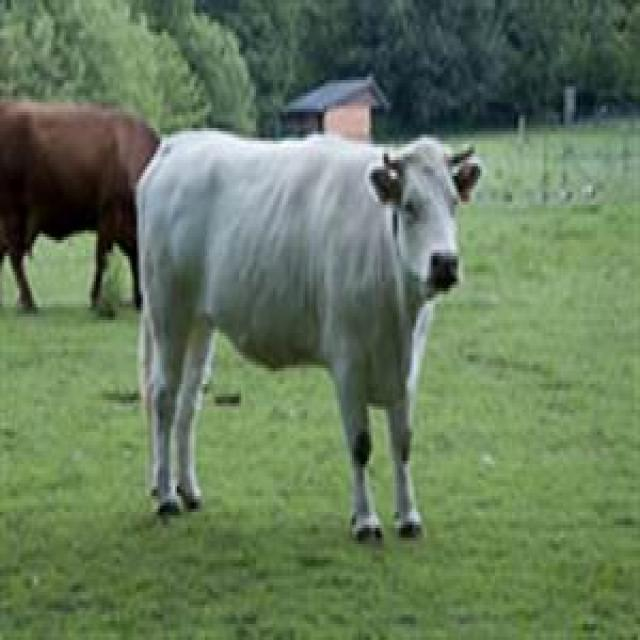animal: (134, 130, 476, 522), (0, 103, 159, 315)
